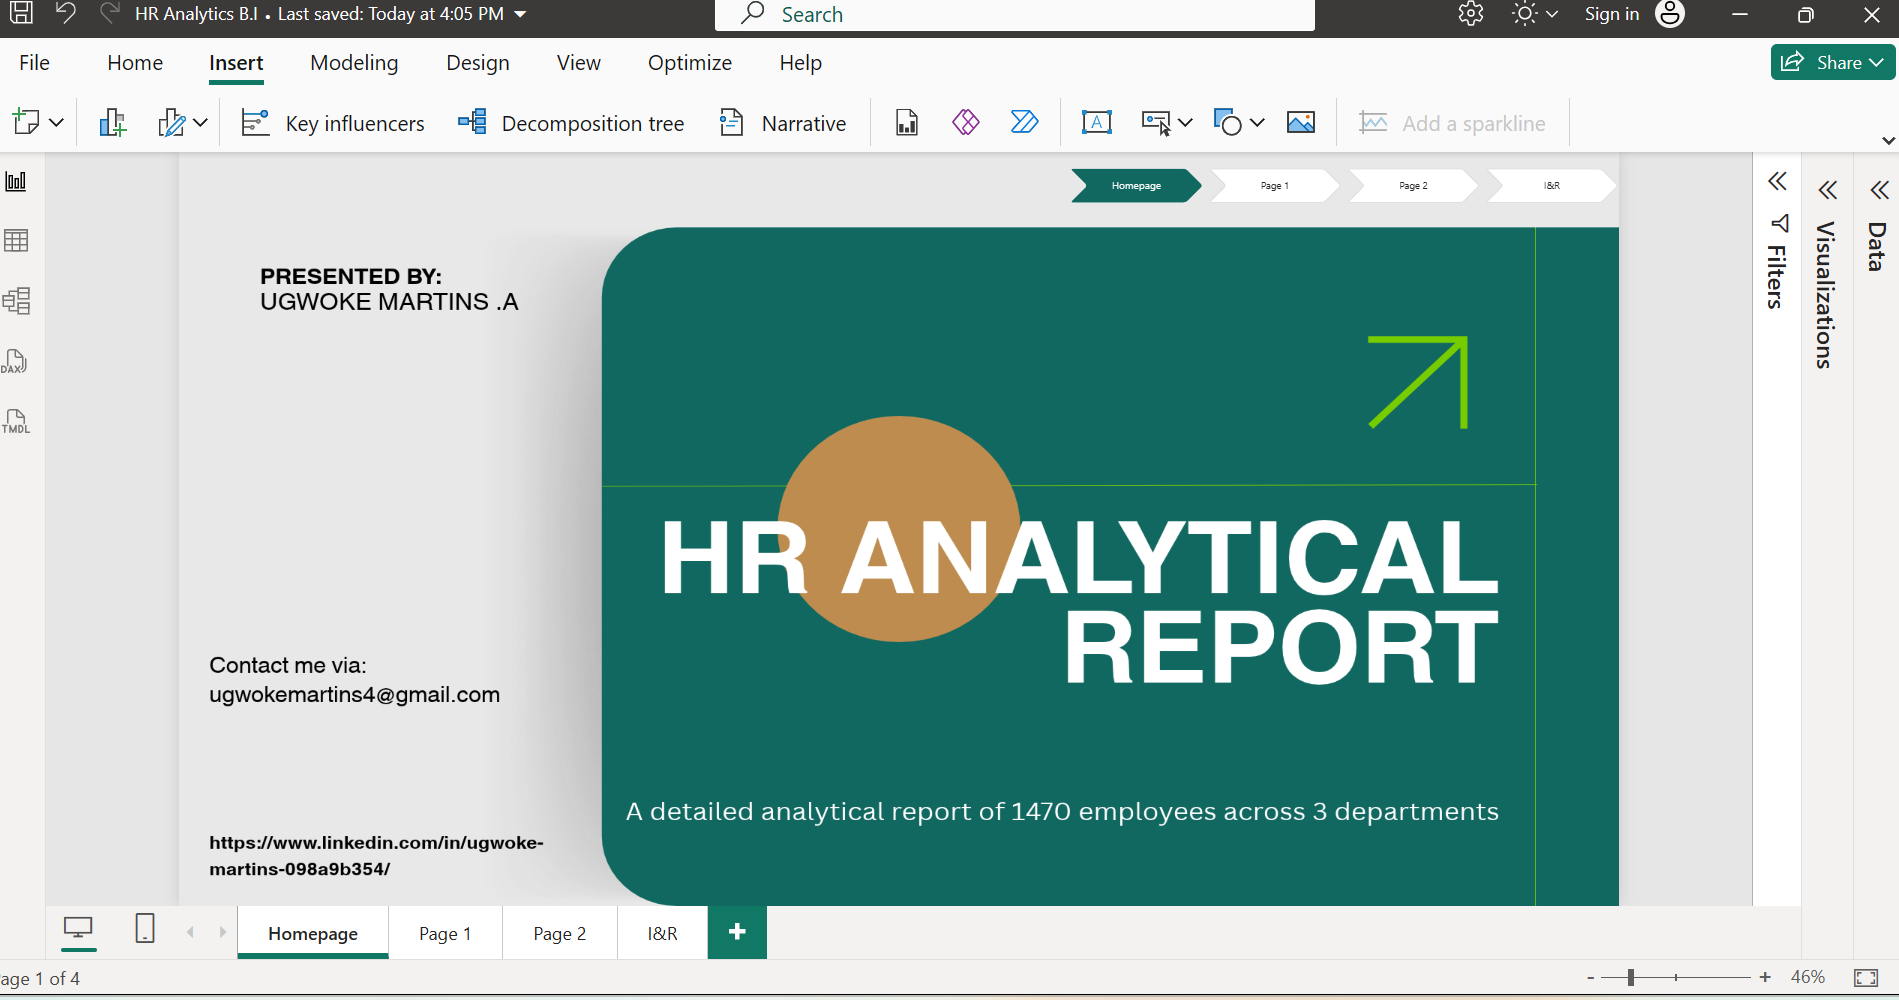

This screenshot's page, from the dashboard's own definition file:
{"tool":"powerbi","page":{"name":"Homepage","canvas":[2100,1100],"ordinal":0},"visuals":[{"type":"pageNavigator","box":[1299.9,24.1,800,50],"z":0}]}

Visuals, with their boxes on the page's 2100x1100 design canvas (x1, y1, x2, y2). These are canvas units, not pixel positions in the 1899x1000 screenshot, which may show the page scaled, cropped or inside an application window:
pageNavigator: x1=1300 y1=24 x2=2100 y2=74
